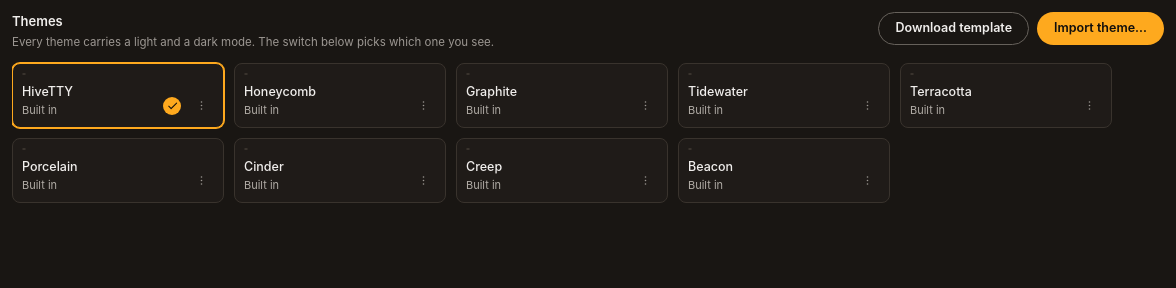
ThemeGallery › dismissing the banner clears it
Click the button "Import theme…" at (1100, 28), box left=1037, top=12, right=1164, bottom=45
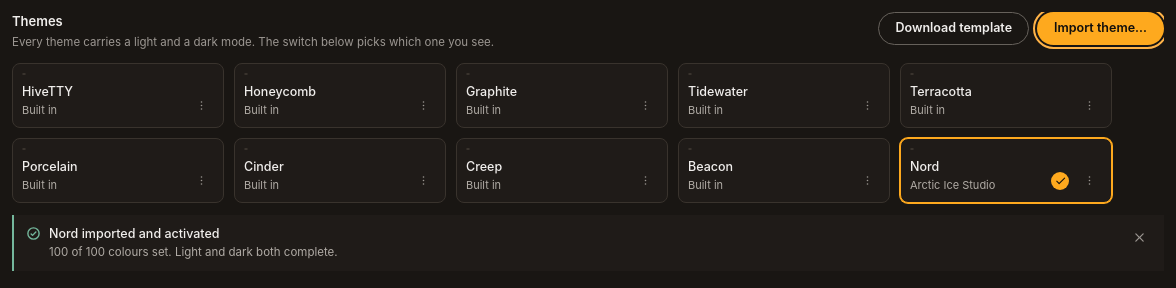
Result: the text "Nord imported and activated" is shown at left=49, top=226, right=220, bottom=241
Click the button named "dismiss" at (1140, 238), box left=1127, top=225, right=1152, bottom=250
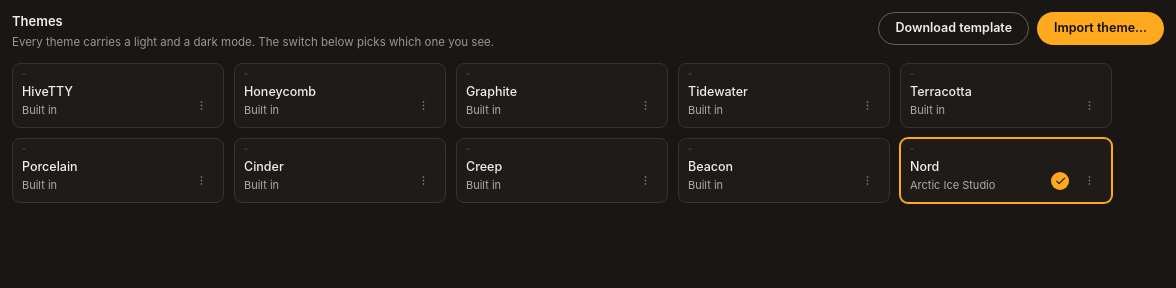
Result: the text "Nord imported and activated" is gone
